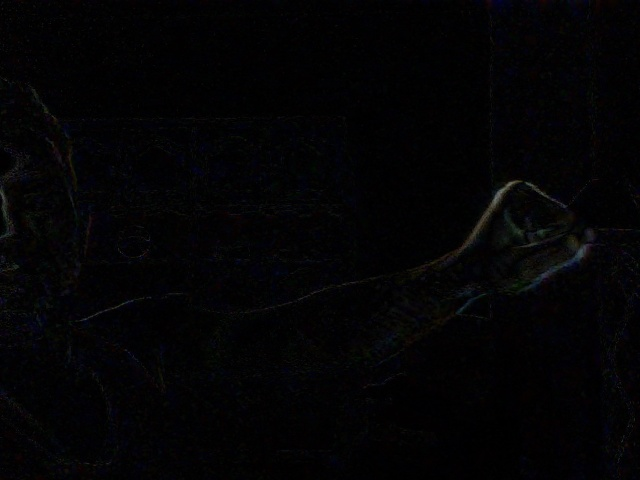hand_fi: (444, 167, 601, 302)
